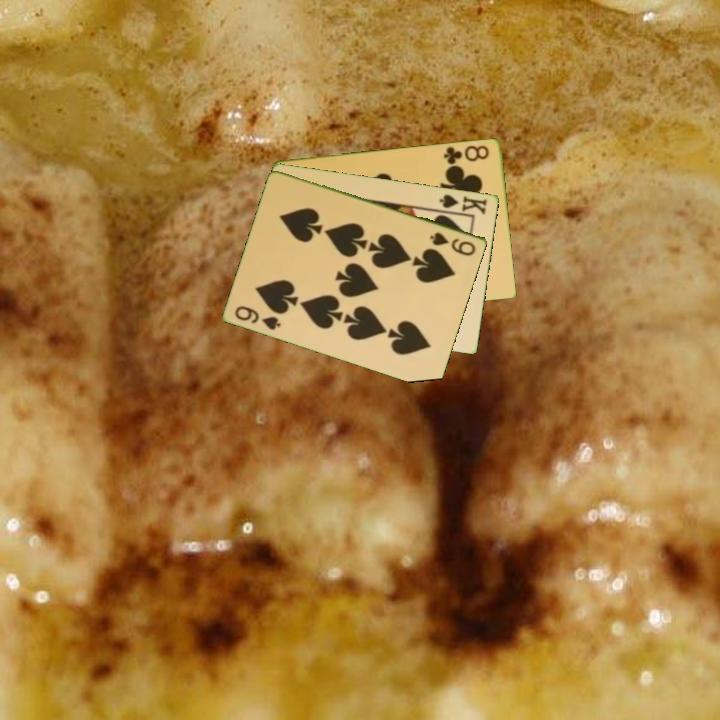8c: (440, 141, 492, 167)
9s: (427, 228, 479, 259), (232, 302, 284, 333)
Ks: (434, 191, 490, 217)
